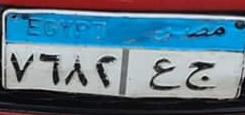2: (95, 53, 117, 91)
6: (41, 52, 61, 84)
7: (9, 53, 37, 80)
8: (65, 52, 86, 86)
ain: (148, 55, 181, 93)
jeem: (183, 56, 218, 92)
